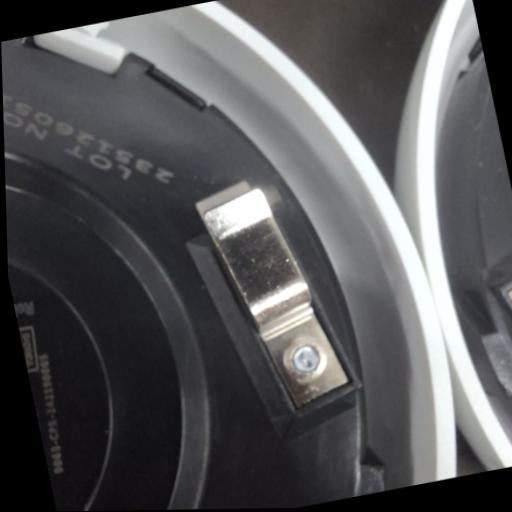yayli: (193, 171, 355, 420)
